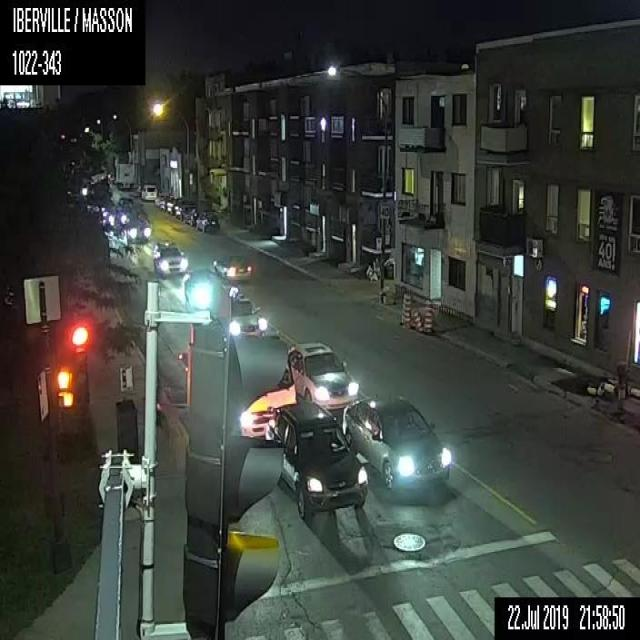construction: (552, 363, 626, 409), (399, 290, 411, 329), (421, 304, 434, 334), (412, 308, 423, 331)
vehicle: (264, 401, 368, 520), (341, 392, 452, 492), (287, 342, 358, 408), (239, 361, 295, 438), (228, 298, 268, 340), (184, 267, 220, 309), (152, 240, 188, 276), (212, 253, 253, 282), (100, 205, 130, 231), (125, 218, 151, 242), (195, 210, 219, 233), (114, 162, 134, 189), (174, 200, 196, 220), (140, 184, 157, 200), (182, 207, 197, 225), (165, 198, 176, 214), (154, 192, 166, 206), (159, 194, 167, 210)
